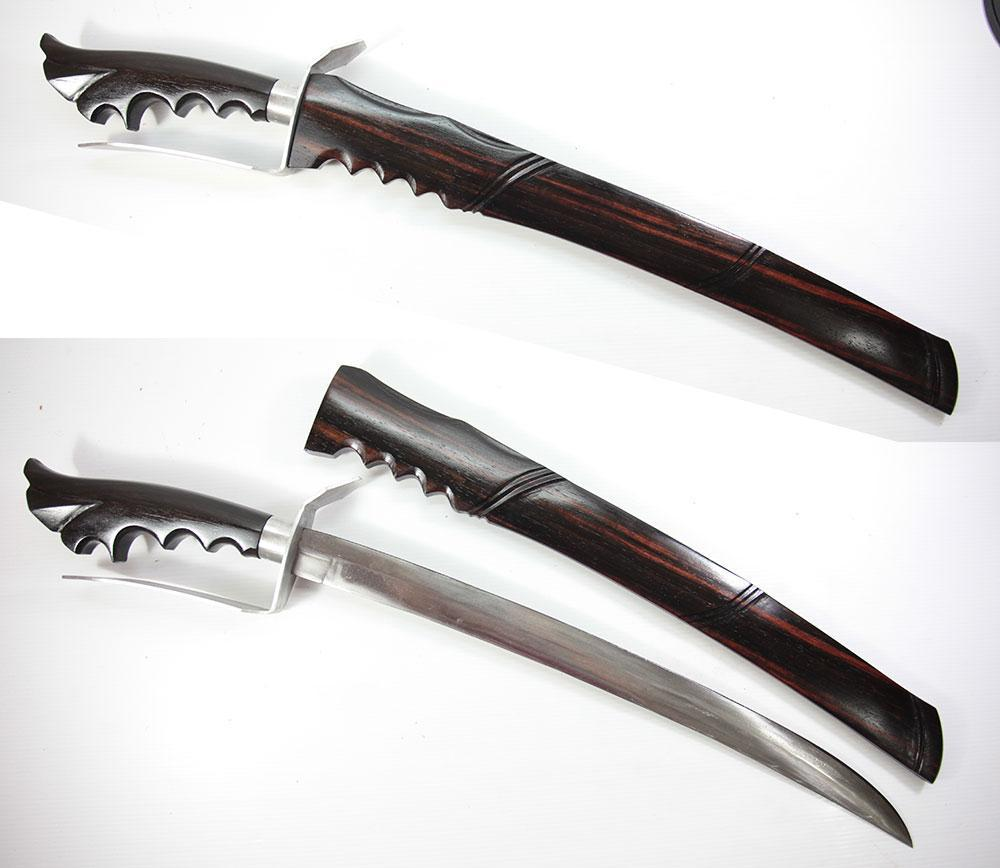espada: (31, 11, 975, 404), (8, 450, 922, 848), (268, 364, 976, 822)
